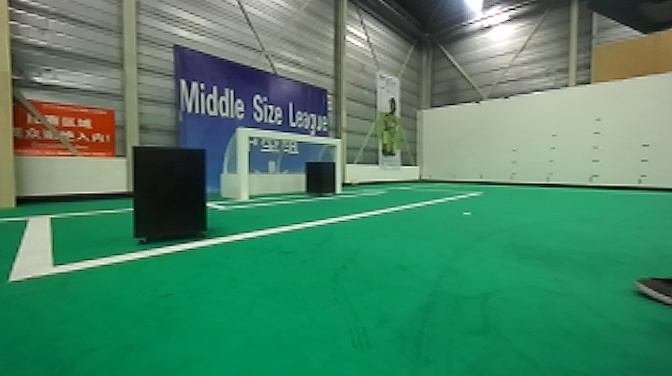goalpost: (236, 124, 252, 200), (331, 139, 346, 194)
